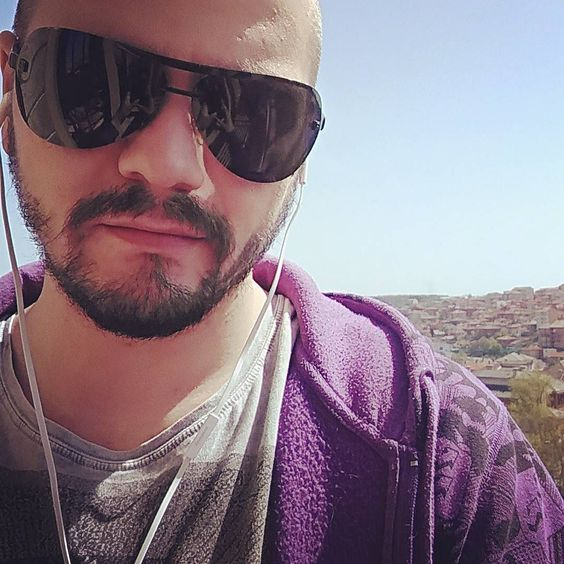sunglasses: (25, 27, 321, 170)
